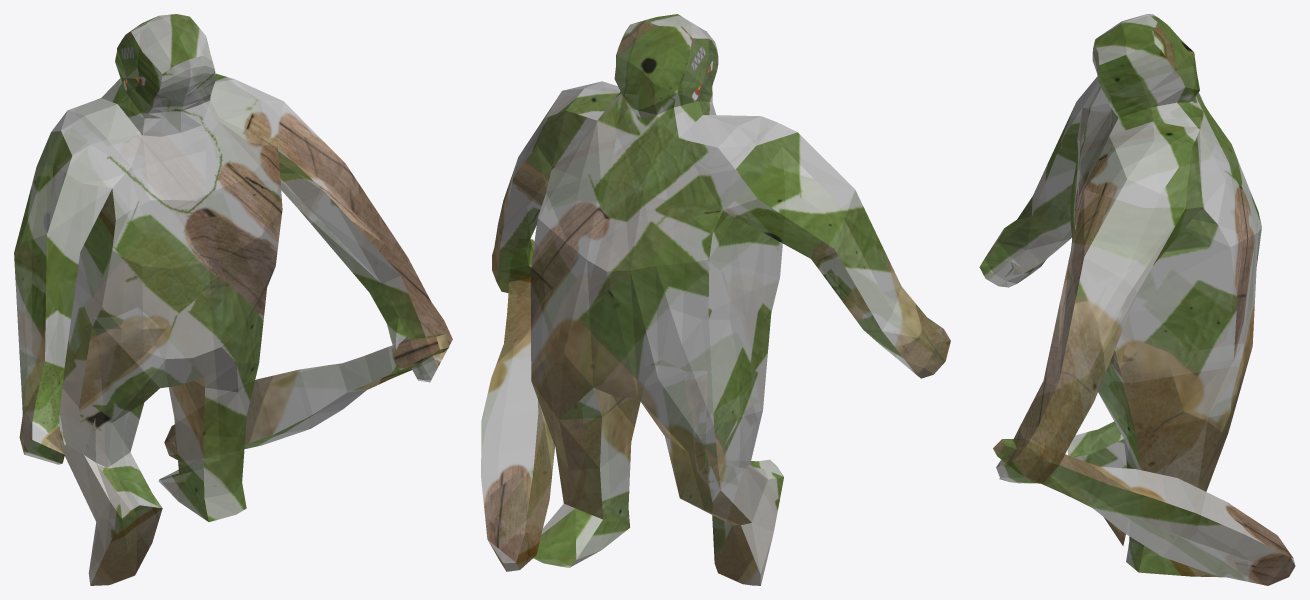
Rendered from Enemigo213.obj.
3 views of the same model, side by side, from view 1: azimuth 30°, elevation 25°; view 2: azimuth 150°, elevation 25°; view 3: azimuth 270°, elevation 25° (orthographic). The views are drawn at different scales.
Visible parts, largest first — view 1: Cube; view 2: Cube; view 3: Cube.
Part boxes in pixels (box(x1,y1,x2,y2)): Cube: box(14, 14, 452, 585); Cube: box(481, 14, 950, 585); Cube: box(979, 14, 1295, 585).
Size of the model in its own units: 2.36 by 2.85 by 1.49.
